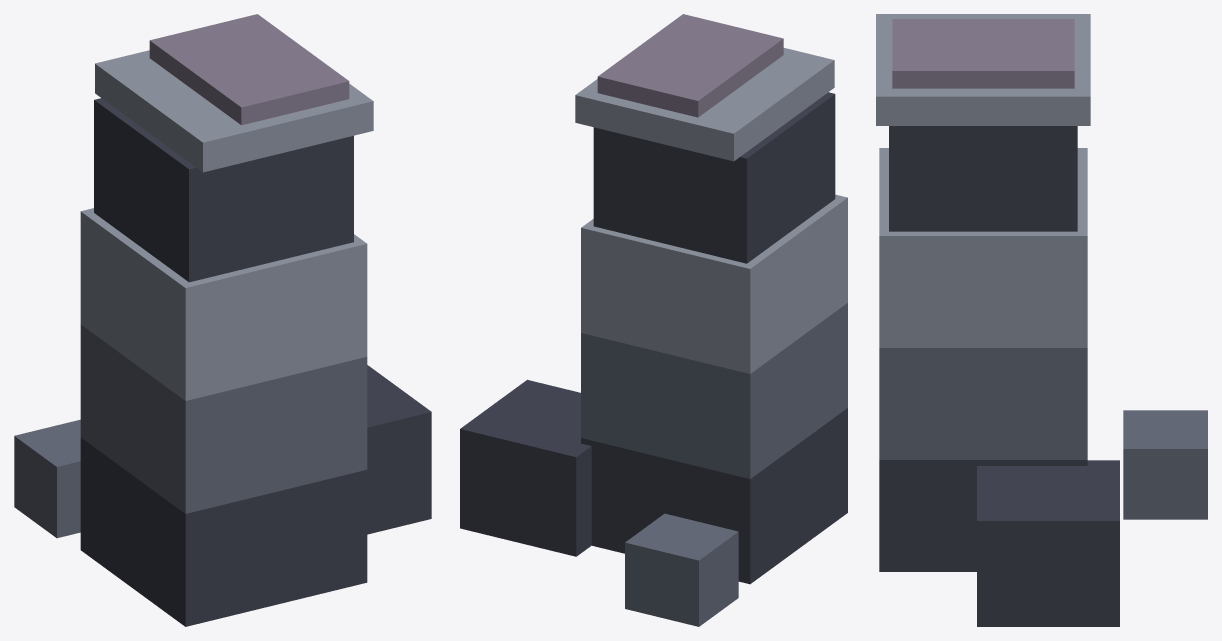
Rendered from TW_STONE_END_RUIN_B_LOD0.glb.
The picture shows the model from 3 angles, left to right: view 1: azimuth 30°, elevation 25°; view 2: azimuth 150°, elevation 25°; view 3: azimuth 270°, elevation 25°; orthographic projection. The views are drawn at different scales.
Parts seen in each view (by area): view 1: TW_STONE_END_RUIN_B_LOD0; view 2: TW_STONE_END_RUIN_B_LOD0; view 3: TW_STONE_END_RUIN_B_LOD0.
Part boxes in pixels (bbox=[...]): TW_STONE_END_RUIN_B_LOD0: bbox=[14, 14, 431, 626]; TW_STONE_END_RUIN_B_LOD0: bbox=[460, 14, 847, 626]; TW_STONE_END_RUIN_B_LOD0: bbox=[876, 14, 1207, 626].
Size of the model in its own units: 0.53 by 0.84 by 0.51.
1 material, 1 textured.
